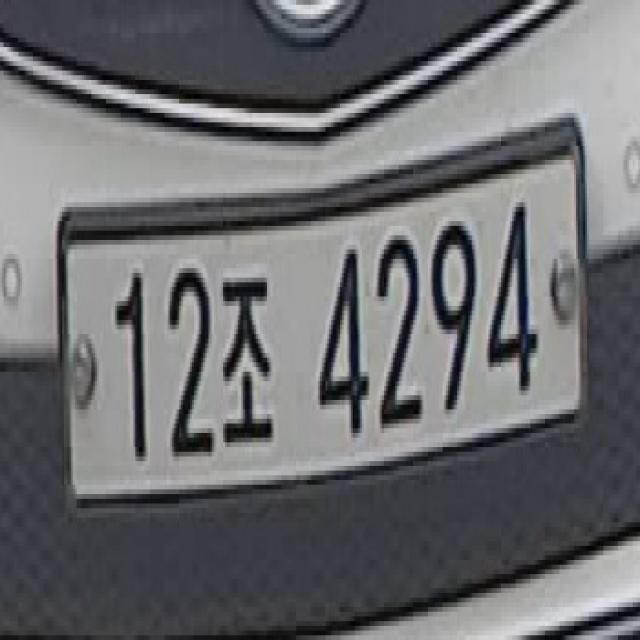1: (111, 245, 161, 489)
2: (163, 250, 216, 470), (375, 212, 422, 438)
4: (313, 231, 373, 461), (486, 198, 547, 414)
9: (428, 207, 483, 424)
jo: (218, 259, 282, 461)
license_plate: (53, 84, 592, 536)
